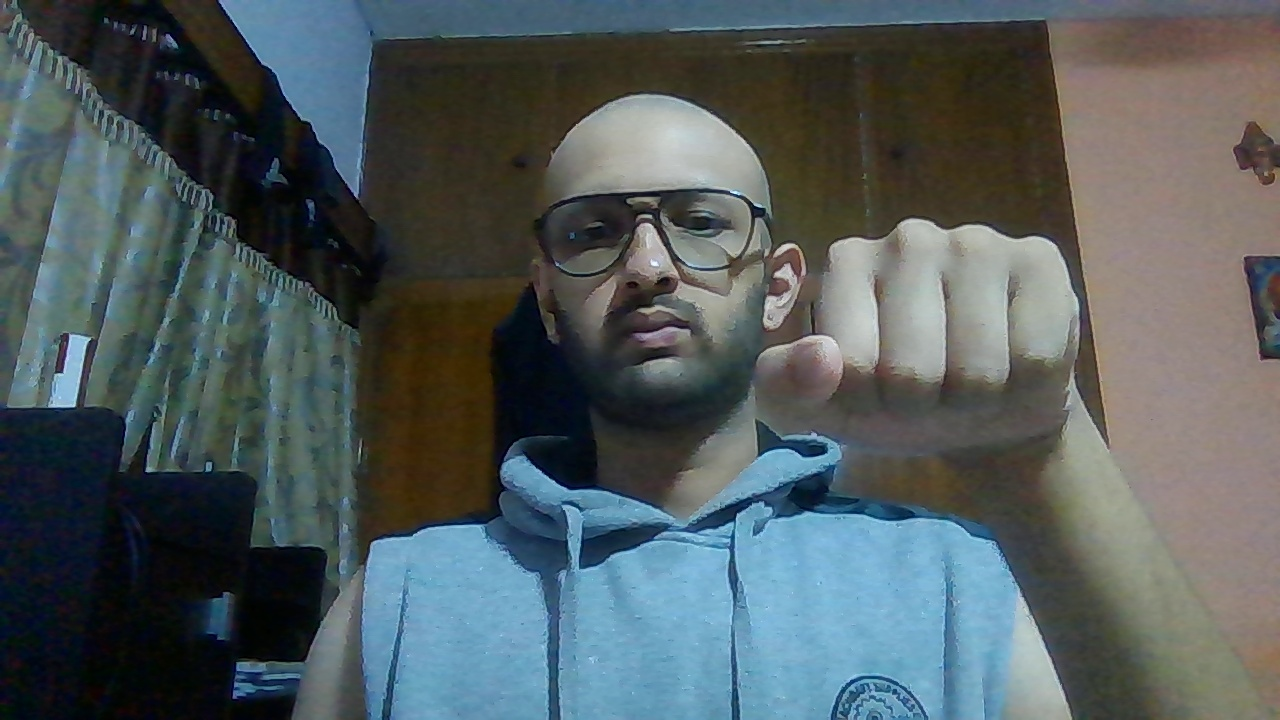Yes: (748, 212, 1101, 454)
